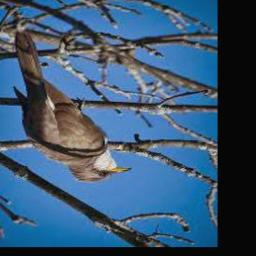Cuckoo: (11, 31, 129, 182)
